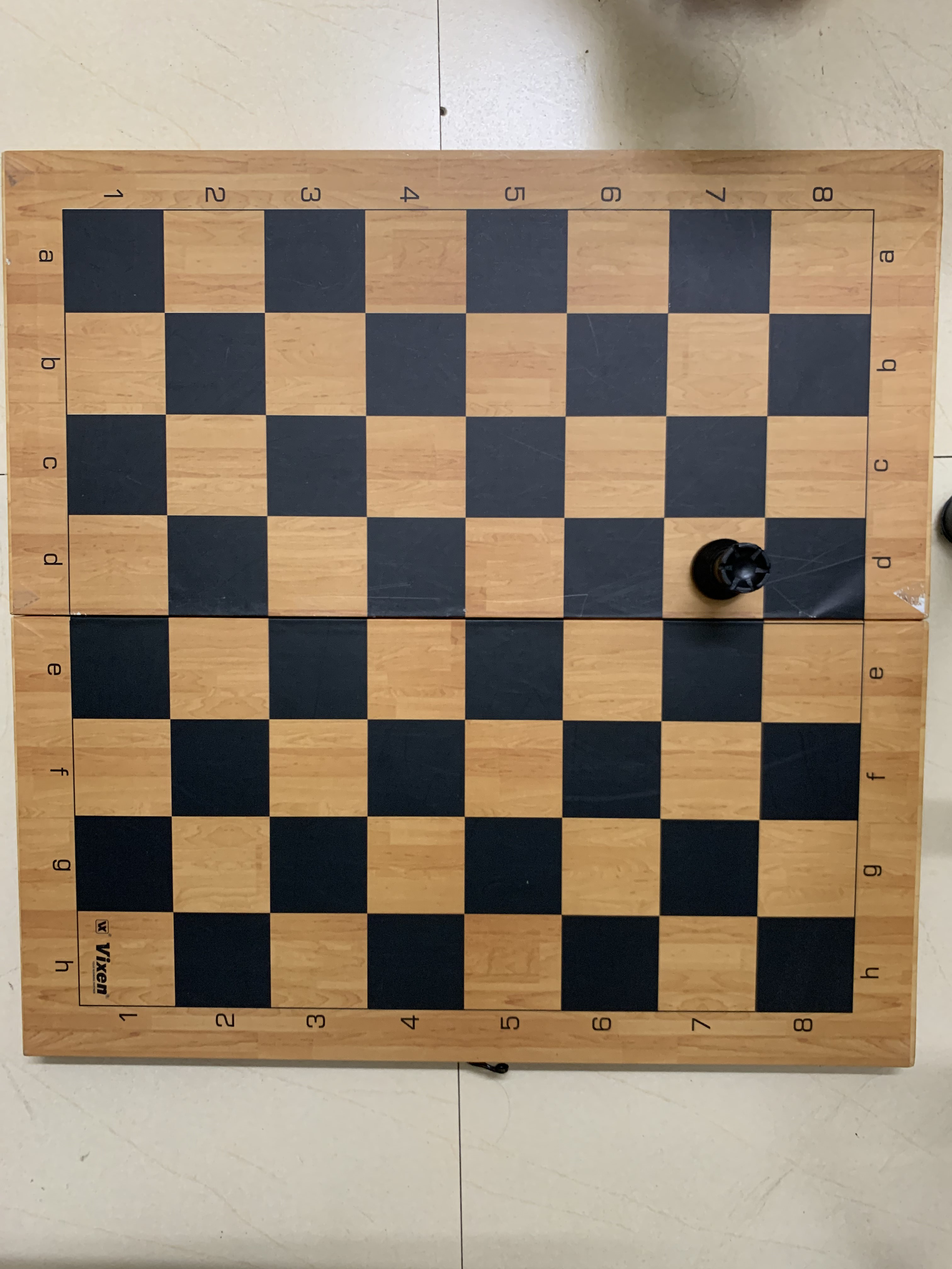black_rook: (655, 516, 784, 617)
